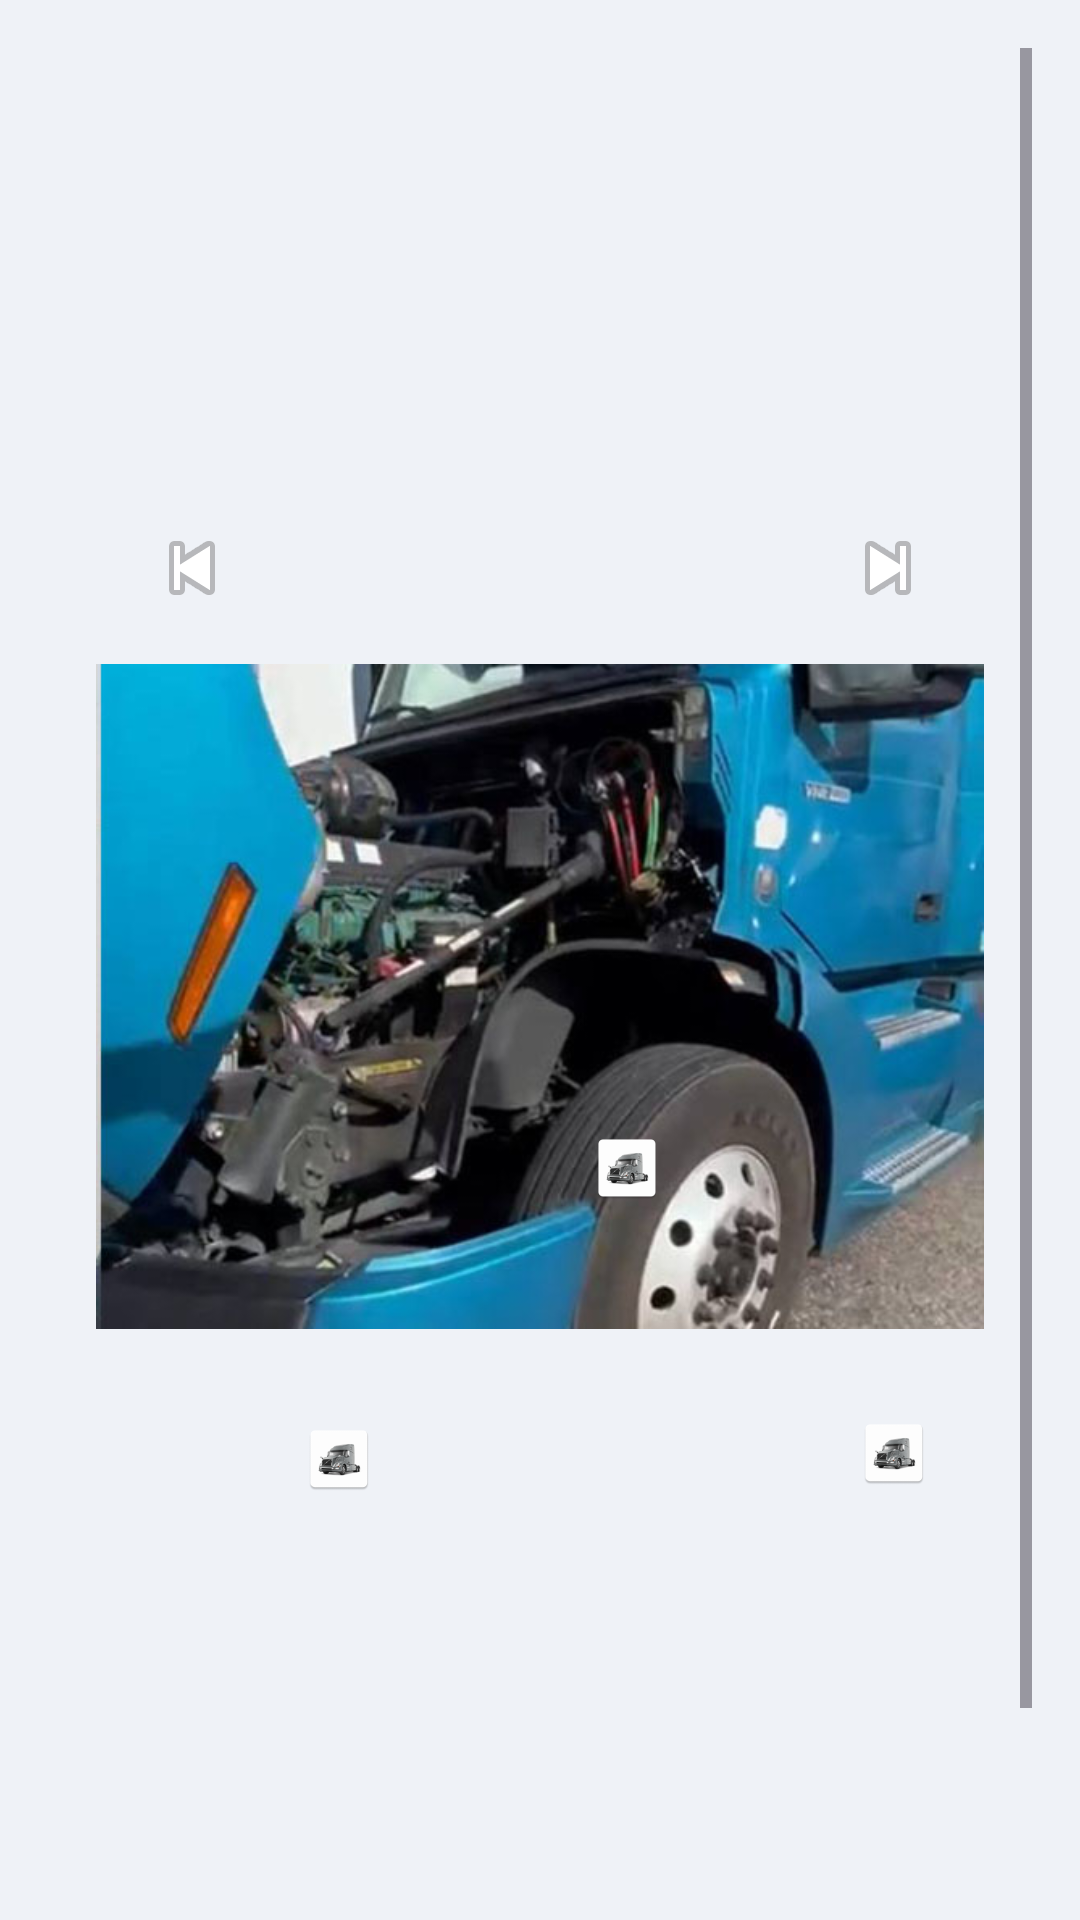

Icons on this 1080 x 1920 Android screen, each with its box as (x1, y1, x2, y2):
Next Image: (865, 541, 911, 595)
Previous Image: (169, 541, 215, 595)
